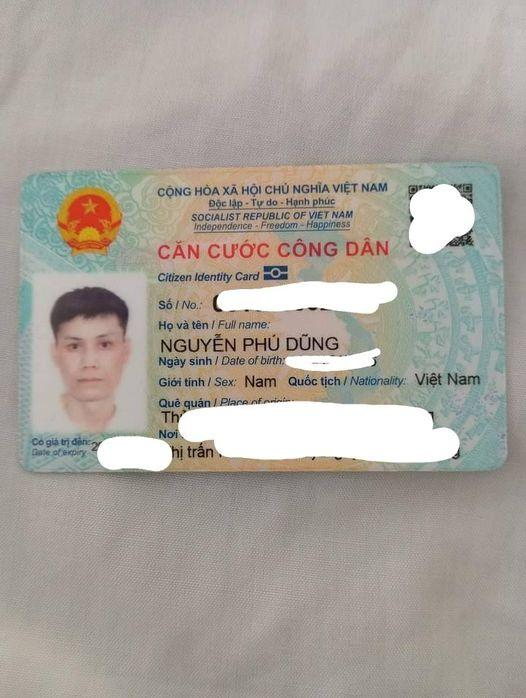bottom_left: (15, 456, 36, 480)
bottom_right: (492, 447, 510, 476)
image_person: (28, 271, 152, 428)
top_left: (17, 165, 42, 200)
top_right: (476, 154, 508, 188)
